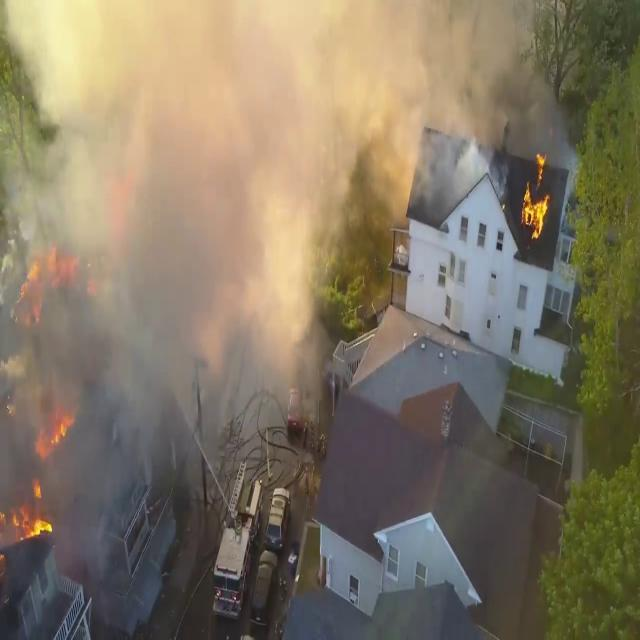Fire: (0, 484, 56, 549), (519, 152, 553, 244)
Smoke: (1, 0, 503, 479)
